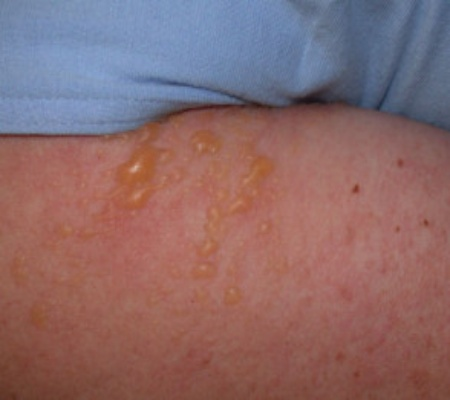SJS-TEN: (0, 77, 397, 400)
